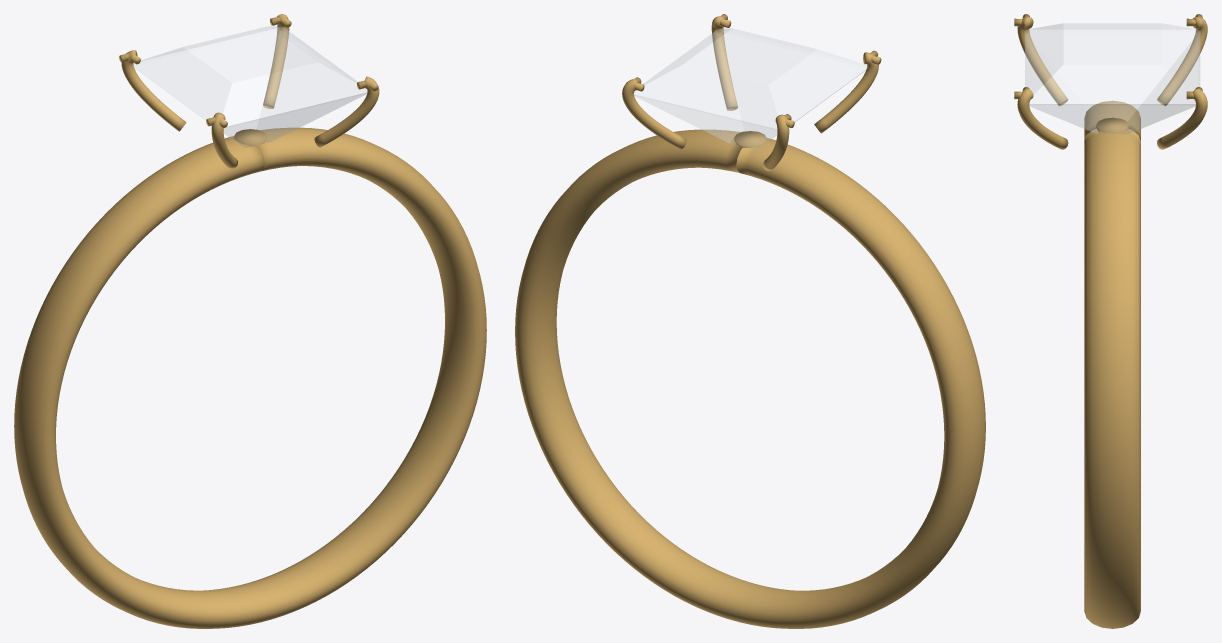
Rendered from settings-v-prong.glb.
3 renders of one model, left to right at view 1: azimuth 30°, elevation 25°; view 2: azimuth 150°, elevation 25°; view 3: azimuth 270°, elevation 25°, orthographic.
Visible parts, largest first — view 1: Band, Gem, Prong.001, Prong, Prong.003, Prong.002; view 2: Band, Gem, Prong.002, Prong.003, Prong, Prong.001; view 3: Band, Gem, Prong.002, Prong.001, Prong.003, Prong, Head stem.
Boxes of the visible parts, x1=… form: Band: x1=14, y1=127, x2=486, y2=628; Gem: x1=132, y1=26, x2=367, y2=147; Prong.001: x1=121, y1=50, x2=186, y2=131; Prong: x1=263, y1=14, x2=289, y2=108; Prong.003: x1=314, y1=76, x2=379, y2=147; Prong.002: x1=211, y1=112, x2=237, y2=168; Band: x1=515, y1=129, x2=985, y2=628; Gem: x1=634, y1=28, x2=867, y2=149; Prong.002: x1=814, y1=52, x2=878, y2=133; Prong.003: x1=711, y1=16, x2=737, y2=110; Prong: x1=622, y1=78, x2=686, y2=149; Prong.001: x1=763, y1=114, x2=789, y2=170; Band: x1=1084, y1=100, x2=1140, y2=628; Gem: x1=1025, y1=23, x2=1199, y2=134; Prong.002: x1=1017, y1=17, x2=1068, y2=106; Prong.001: x1=1157, y1=17, x2=1207, y2=106; Prong.003: x1=1017, y1=88, x2=1068, y2=149; Prong: x1=1157, y1=88, x2=1207, y2=149; Head stem: x1=1096, y1=117, x2=1128, y2=132.
Size of the model in its own units: 19.6 by 22.94 by 7.18.
